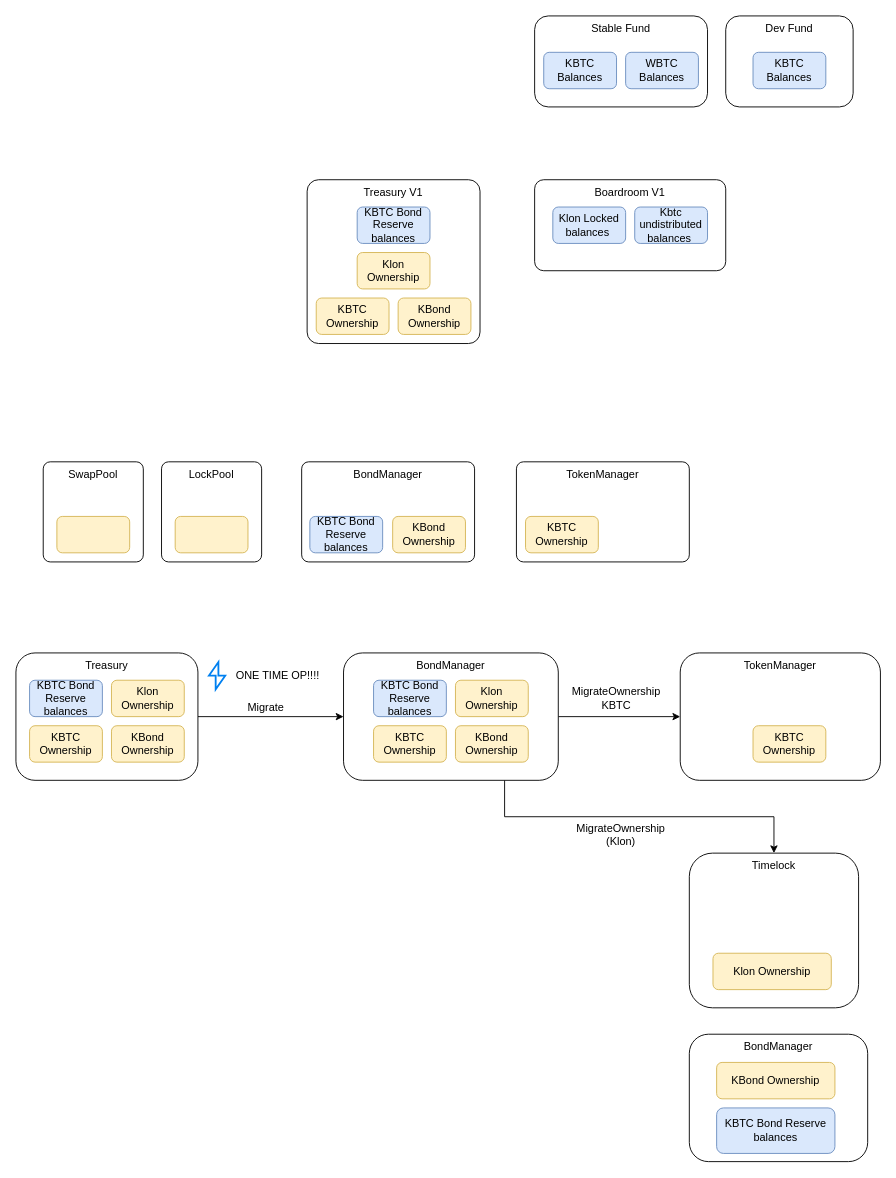
Image size: 896x1178. Some labels were removed from this diagram. Here are the shapes that lost their labels. From the top down, the centre of each, then its label:
At point 93,534: "Droid Ownership".
At point 211,534: "Jedi Ownership".
